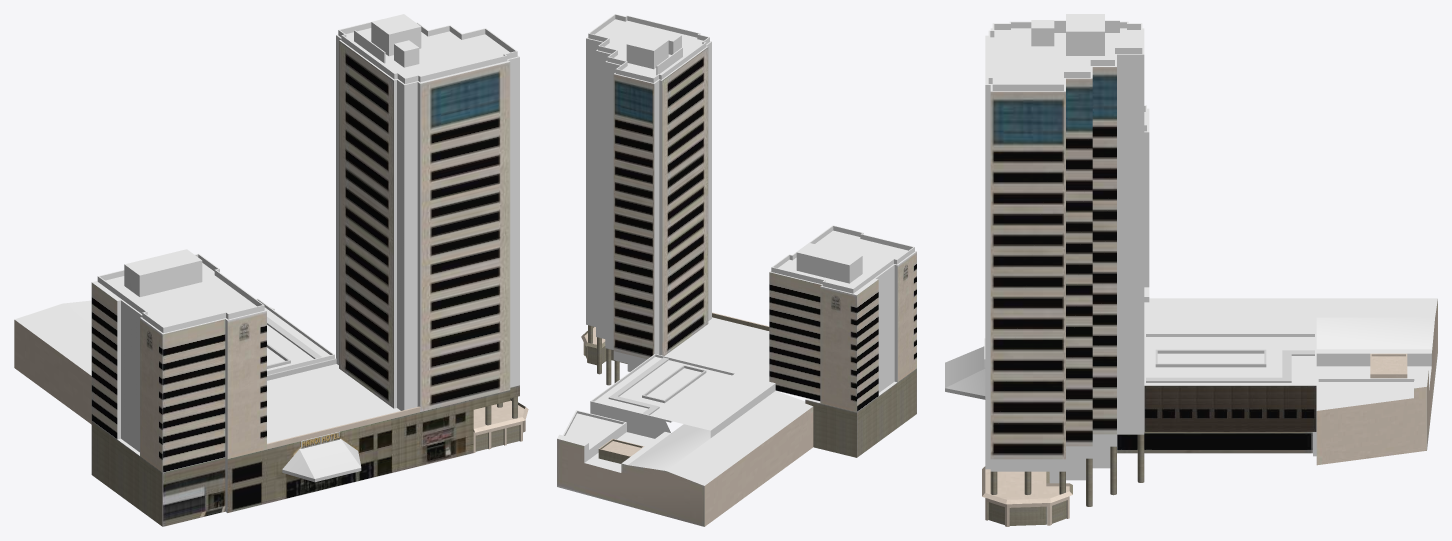
3 renders of one model, left to right at view 1: azimuth 30°, elevation 25°; view 2: azimuth 150°, elevation 25°; view 3: azimuth 270°, elevation 25°, orthographic. The views are drawn at different scales.
Parts seen in each view (by area): view 1: Hanoi_Hotel; view 2: Hanoi_Hotel; view 3: Hanoi_Hotel.
Part boxes in pixels (x1,y1,x2,y2): Hanoi_Hotel: [14, 14, 528, 526]; Hanoi_Hotel: [557, 14, 916, 526]; Hanoi_Hotel: [945, 14, 1437, 526].
Size of the model in its own units: 72.05 by 74.56 by 73.59.
10 materials, 1 textured.
